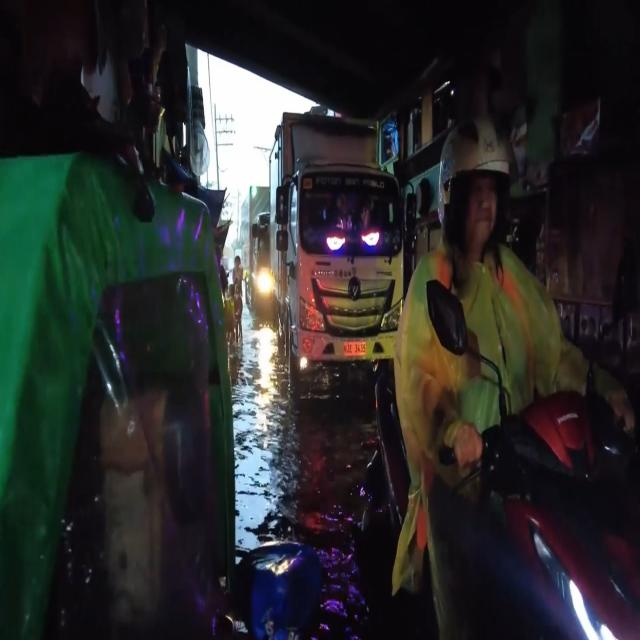half: (438, 117, 511, 225)
